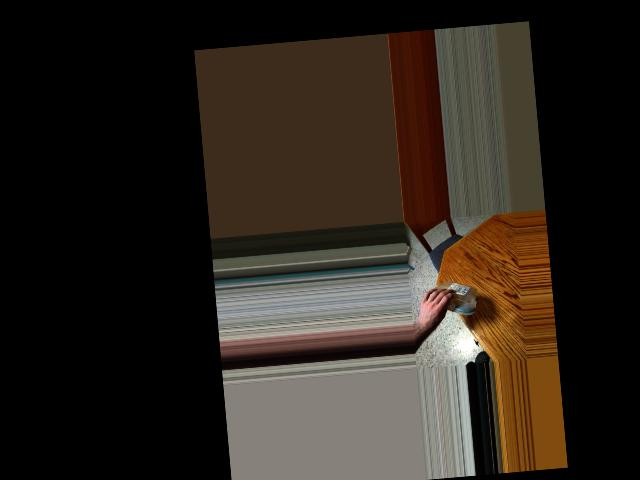cheese: (434, 278, 475, 315)
